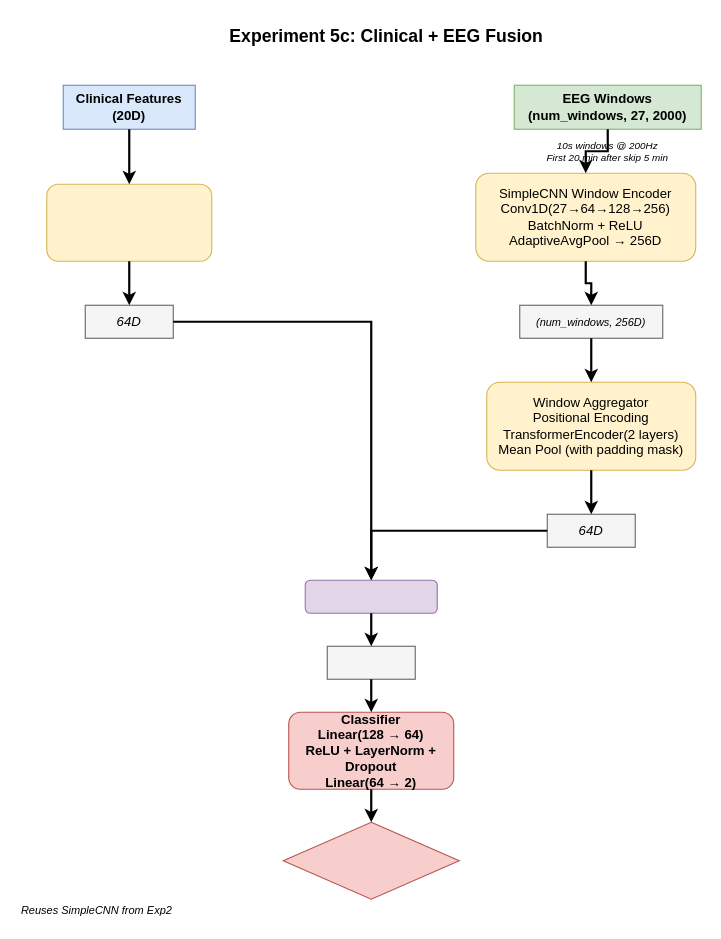
This 721x939 diagram has some shape labels left out. Here are the shapes that lost their labels. From the top down, the centre of each, then its label:
point (129, 222): Clinical Encoder Linear(20 → 64) ReLU + LayerNorm Dropout(0.3)
point (370, 596): Concatenate
point (370, 662): 128D
point (370, 860): Prediction (Success / Failure)
